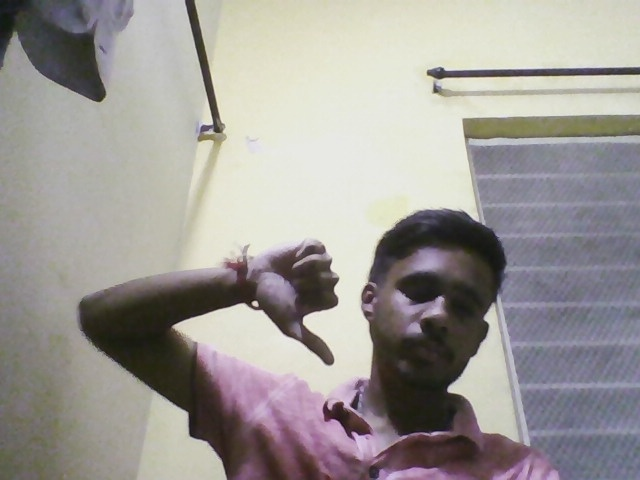no: (251, 223, 351, 385)
